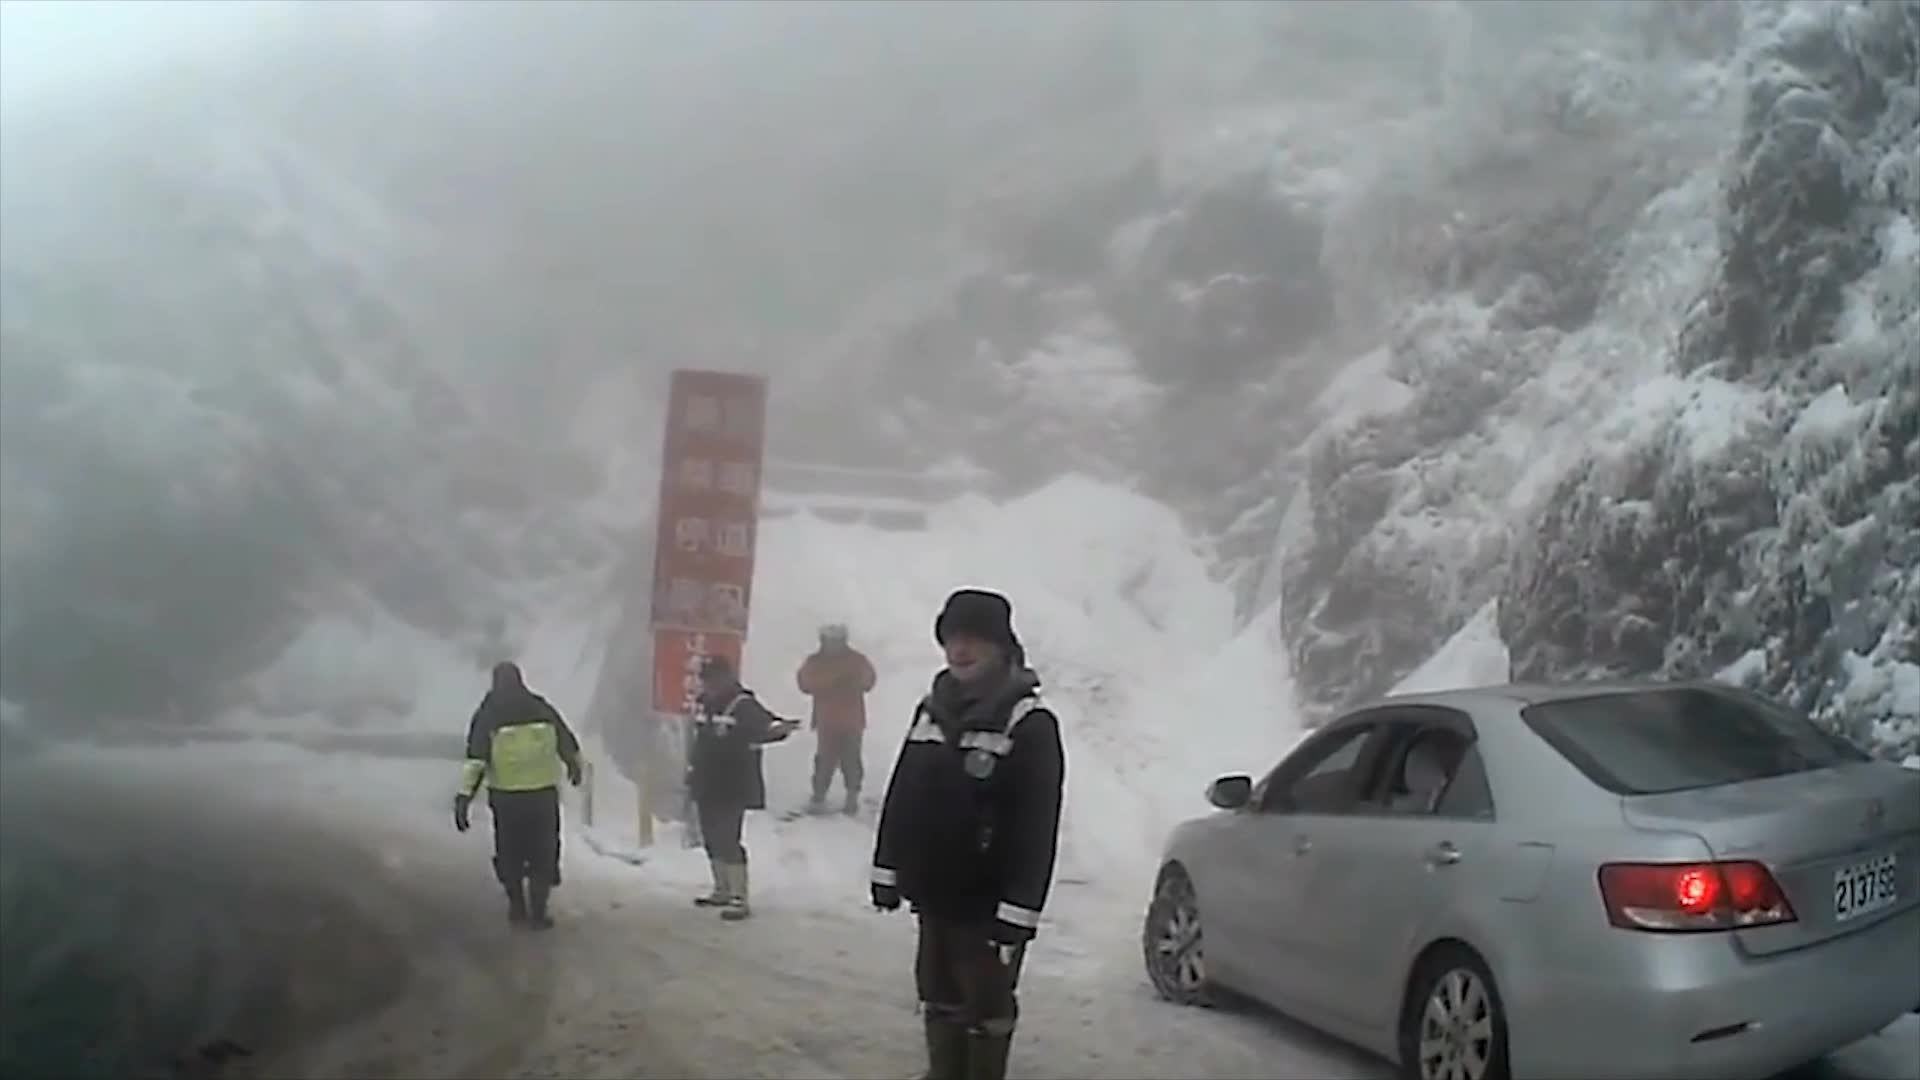pedestrian: (869, 572, 1067, 1080), (456, 660, 590, 925), (691, 648, 800, 916), (804, 616, 880, 813)
vehicle: (1140, 678, 1920, 1080)
